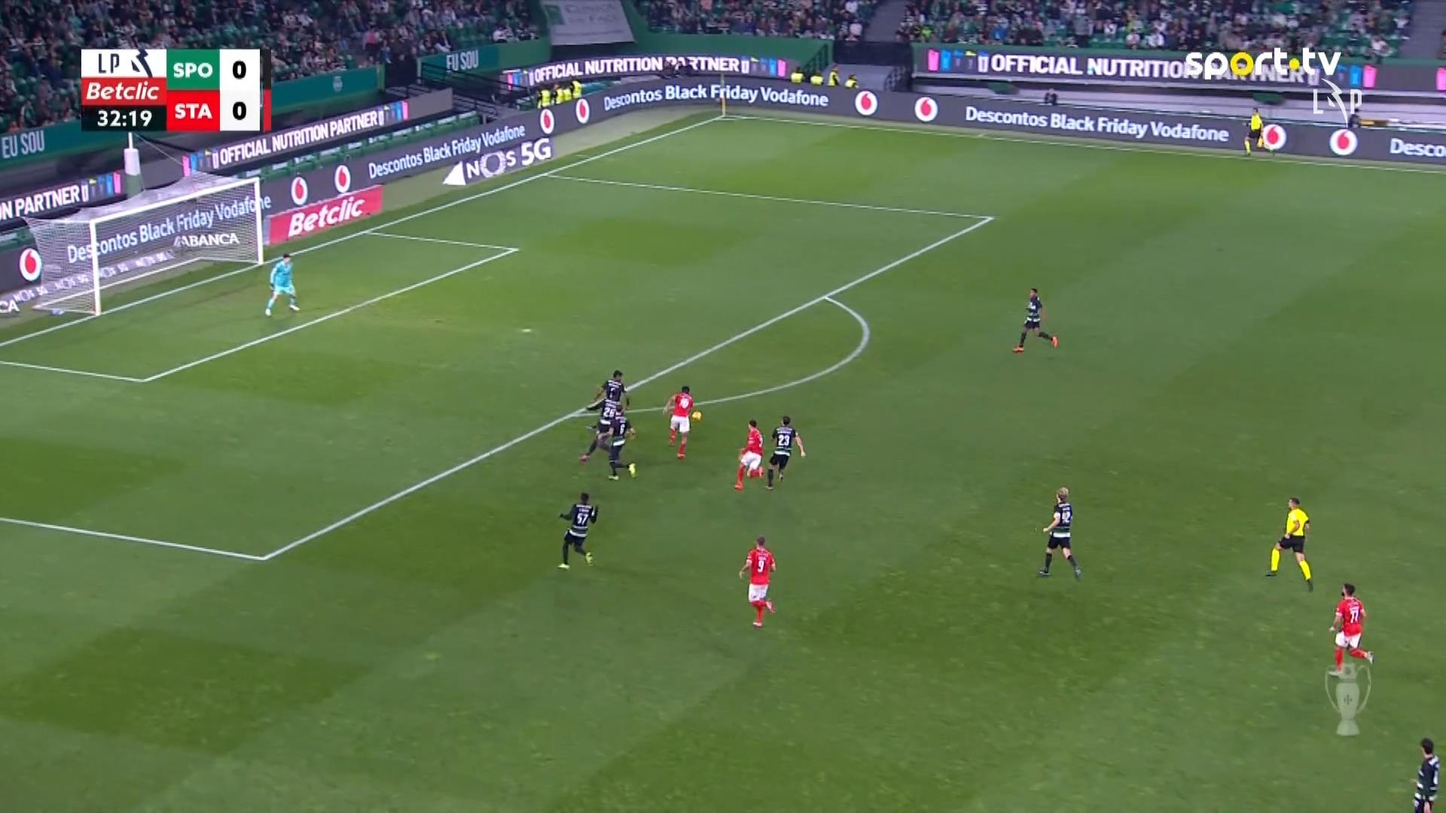ball: (691, 410, 701, 420)
goalkeeper: (264, 251, 300, 316)
player: (1036, 486, 1082, 580), (1328, 581, 1373, 677), (737, 534, 776, 627), (578, 390, 624, 462), (557, 491, 598, 569), (764, 414, 805, 490), (1011, 287, 1058, 352), (662, 385, 695, 458), (607, 405, 637, 480), (733, 418, 764, 490), (1412, 737, 1440, 811), (584, 368, 630, 413)
referee: (1264, 495, 1313, 592), (1242, 106, 1273, 155)
